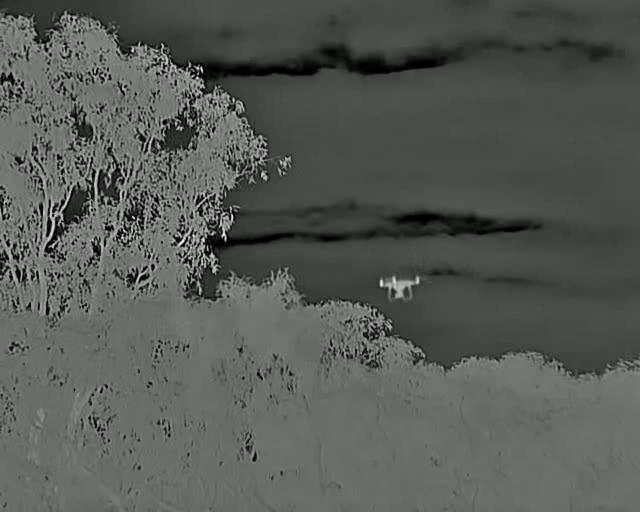DJI-Phantom: (378, 274, 425, 306)
